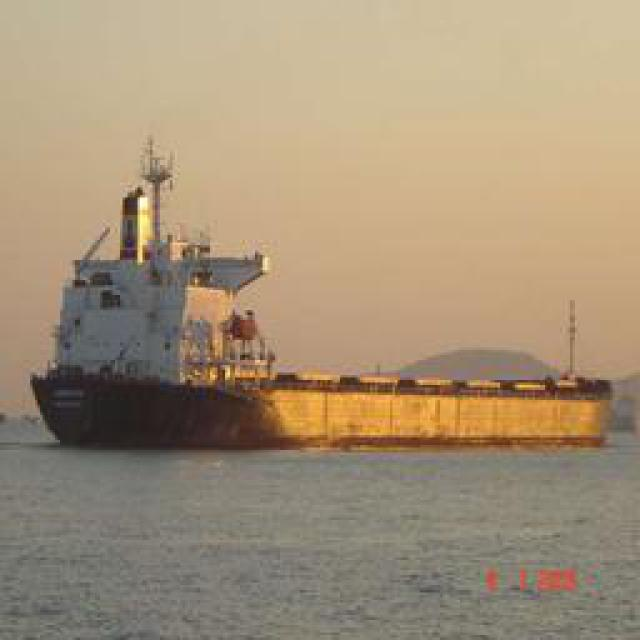Ship: (31, 196, 618, 462)
